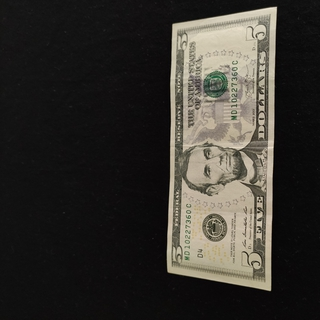5USDFront: (167, 6, 278, 291)
